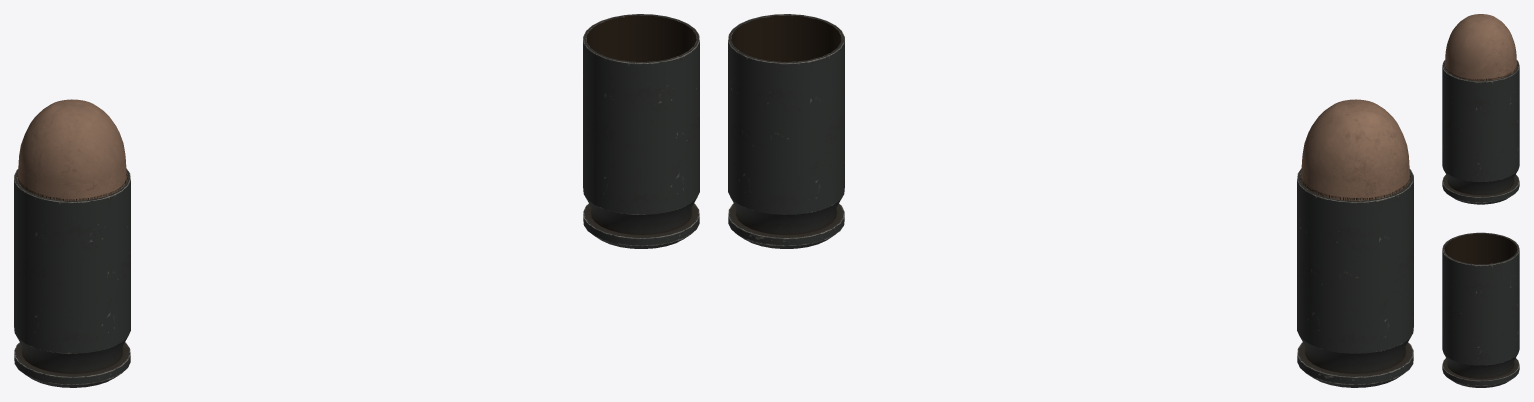
Rendered from ammo 9x18pm.fbx.
The picture shows the model from 3 angles, left to right: view 1: azimuth 30°, elevation 25°; view 2: azimuth 150°, elevation 25°; view 3: azimuth 270°, elevation 25°; orthographic projection. The views are drawn at different scales.
Parts seen in each view (by area): view 1: Cartridge case.001, Cartridge case, Bullet; view 2: Cartridge case.001, Cartridge case, Bullet; view 3: Cartridge case.001, Cartridge case, Bullet.
Boxes of the visible parts, box(x1,y1,x2,y2) form: Cartridge case.001: box(583, 14, 699, 248); Cartridge case: box(14, 168, 130, 387); Bullet: box(17, 99, 126, 200); Cartridge case.001: box(728, 14, 844, 248); Cartridge case: box(1297, 168, 1413, 387); Bullet: box(1301, 99, 1410, 200); Cartridge case.001: box(1442, 232, 1519, 387); Cartridge case: box(1442, 60, 1519, 204); Bullet: box(1444, 14, 1517, 80).
Size of the model in its own units: 119 by 44.37 by 18.04.
1 material, 1 textured.
